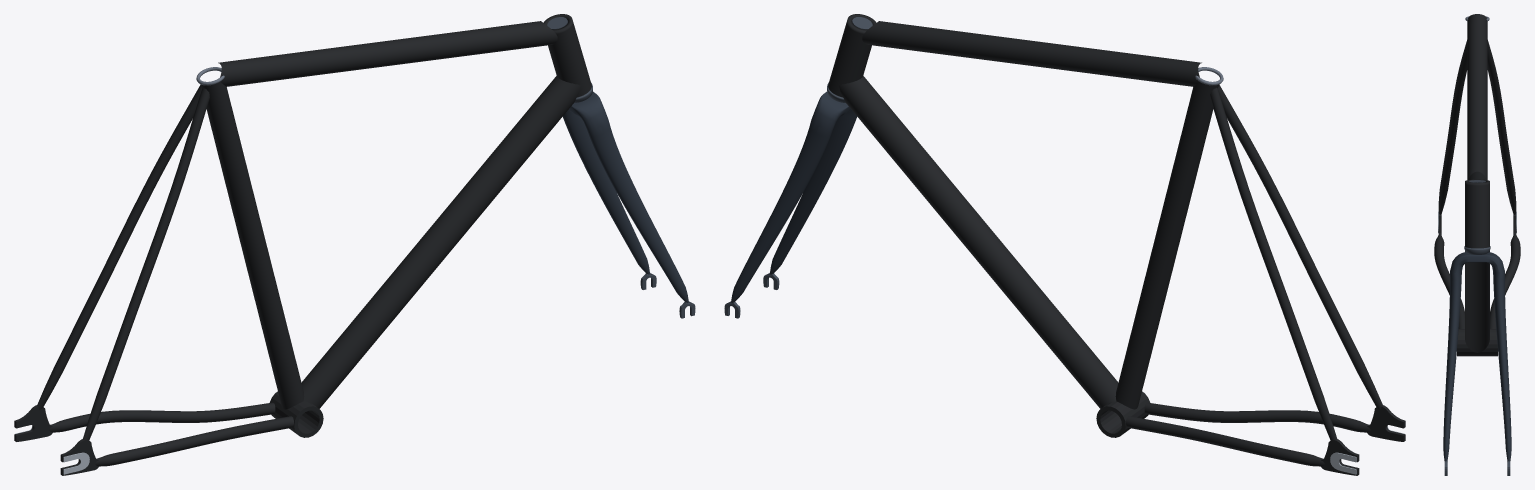
Rendered from dosnoventa-03-det-m.glb.
3 views of the same model, side by side, from view 1: azimuth 30°, elevation 25°; view 2: azimuth 150°, elevation 25°; view 3: azimuth 270°, elevation 25° (orthographic). The views are drawn at different scales.
Parts seen in each view (by area): view 1: paint_down, paint_top, paint_seat, paint_seatstay_1, paint_seatstay_-1, fork_blade_1, fork_blade_-1, paint_chainstay_-1, paint_chainstay_1, paint_head, paint_bottom_bracket, rear_dropout_-1 (+1 smaller); view 2: paint_down, paint_top, paint_seat, paint_seatstay_-1, paint_seatstay_1, fork_blade_-1, fork_blade_1, paint_chainstay_1, paint_chainstay_-1, paint_head, paint_bottom_bracket, rear_dropout_1 (+1 smaller); view 3: paint_top, paint_down, fork_blade_1, fork_blade_-1, paint_head, paint_seatstay_-1, paint_seatstay_1, fork_crown, paint_chainstay_-1, paint_chainstay_1, paint_bottom_bracket, fork_headset_lower (+1 smaller).
Part boxes in pixels (bbox=[...]): paint_down: bbox=[301, 76, 581, 408]; paint_top: bbox=[218, 21, 557, 86]; paint_seat: bbox=[200, 81, 304, 409]; paint_seatstay_1: bbox=[82, 87, 209, 440]; paint_seatstay_-1: bbox=[37, 85, 202, 409]; fork_blade_1: bbox=[587, 120, 688, 302]; fork_blade_-1: bbox=[562, 110, 649, 274]; paint_chainstay_-1: bbox=[49, 402, 275, 432]; paint_chainstay_1: bbox=[95, 416, 293, 466]; paint_head: bbox=[543, 14, 591, 97]; paint_bottom_bracket: bbox=[269, 391, 323, 437]; rear_dropout_-1: bbox=[14, 405, 52, 441]; paint_down: bbox=[838, 76, 1118, 408]; paint_top: bbox=[862, 21, 1201, 86]; paint_seat: bbox=[1115, 81, 1219, 409]; paint_seatstay_-1: bbox=[1210, 87, 1337, 440]; paint_seatstay_1: bbox=[1217, 85, 1383, 409]; fork_blade_-1: bbox=[731, 120, 832, 302]; fork_blade_1: bbox=[770, 110, 857, 274]; paint_chainstay_1: bbox=[1144, 402, 1370, 432]; paint_chainstay_-1: bbox=[1126, 416, 1324, 466]; paint_head: bbox=[828, 14, 876, 97]; paint_bottom_bracket: bbox=[1096, 391, 1150, 437]; rear_dropout_1: bbox=[1367, 405, 1405, 441]; paint_top: bbox=[1467, 14, 1487, 179]; paint_down: bbox=[1465, 251, 1489, 352]; fork_blade_1: bbox=[1443, 271, 1461, 461]; fork_blade_-1: bbox=[1493, 271, 1511, 461]; paint_head: bbox=[1465, 179, 1489, 248]; paint_seatstay_-1: bbox=[1487, 40, 1516, 214]; paint_seatstay_1: bbox=[1438, 40, 1467, 214]; fork_crown: bbox=[1450, 252, 1504, 272]; paint_chainstay_-1: bbox=[1490, 234, 1520, 328]; paint_chainstay_1: bbox=[1434, 234, 1464, 328]; paint_bottom_bracket: bbox=[1457, 329, 1497, 356]; fork_headset_lower: bbox=[1464, 246, 1490, 254].
Bounding box in the file's own units: 0.9949 × 0.5723 × 0.1443.
